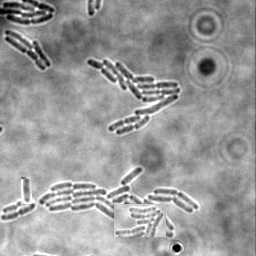Dividing: (1, 204, 37, 222), (3, 199, 33, 215), (21, 177, 32, 204)
Microcolony: (40, 167, 199, 238), (87, 59, 181, 136), (5, 30, 52, 72), (114, 204, 166, 237), (1, 1, 56, 26)
